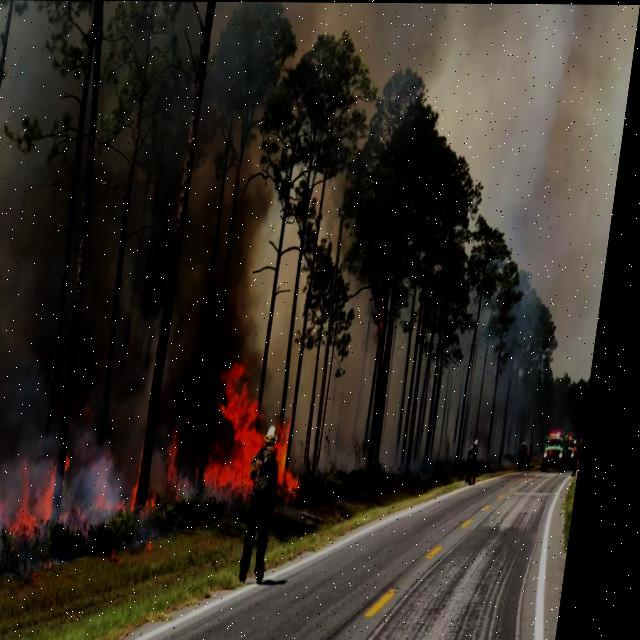Fire: (0, 403, 90, 557), (204, 363, 284, 496), (105, 413, 181, 512), (284, 426, 322, 495), (177, 424, 200, 485)
